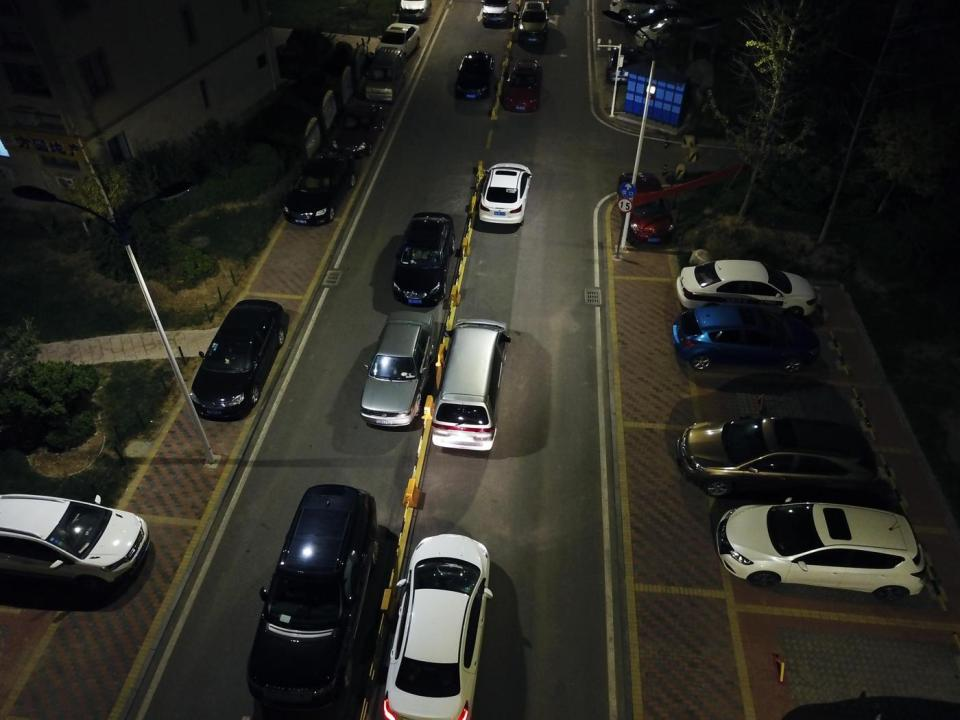car: (249, 483, 379, 708), (716, 499, 927, 602), (381, 533, 494, 720), (675, 414, 878, 498), (0, 492, 149, 593), (187, 299, 288, 420), (672, 305, 822, 374), (360, 310, 434, 429), (676, 258, 817, 319), (391, 211, 456, 307), (283, 151, 357, 225), (617, 172, 676, 244), (477, 161, 533, 226), (330, 100, 384, 158), (634, 17, 709, 50), (503, 58, 541, 113), (456, 50, 495, 99), (625, 5, 692, 33), (375, 22, 420, 62), (517, 1, 550, 45), (607, 46, 641, 82), (609, 0, 663, 19), (481, 0, 511, 25)
van: (430, 318, 510, 452), (365, 46, 407, 102)
